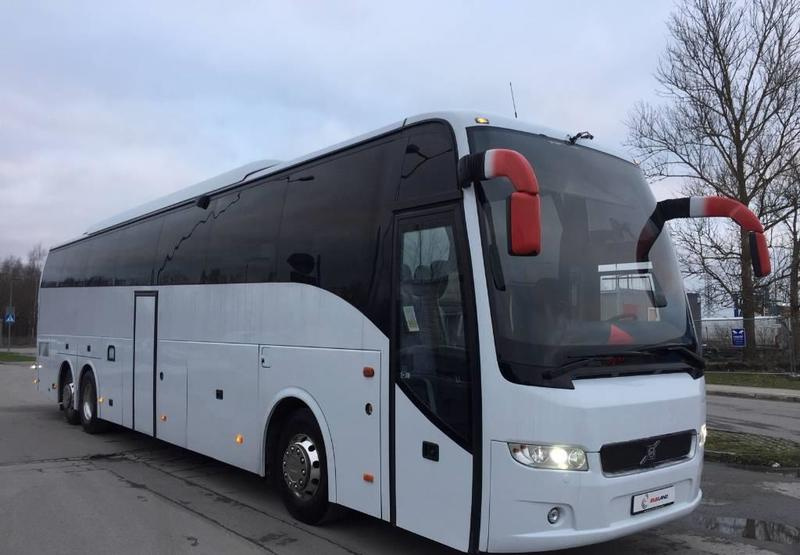bus: (37, 109, 707, 553)
